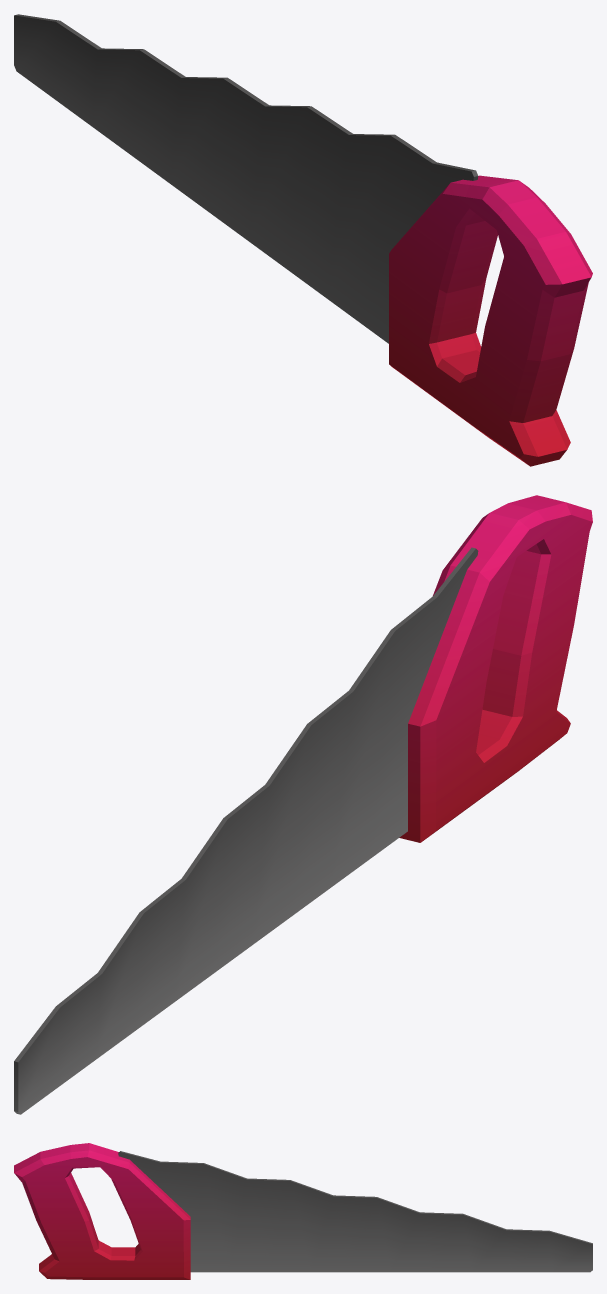
File: saw.fbx
3 views of the same model, one above another, from view 1: azimuth 30°, elevation 25°; view 2: azimuth 150°, elevation 25°; view 3: azimuth 270°, elevation 25° (orthographic). The views are drawn at different scales.
Parts seen in each view (by area): view 1: Blade_Tools_Mat_0; view 2: Blade_Tools_Mat_0; view 3: Blade_Tools_Mat_0.
Boxes of the visible parts, x1=… form: Blade_Tools_Mat_0: x1=14, y1=14, x2=592, y2=466; Blade_Tools_Mat_0: x1=14, y1=495, x2=592, y2=1114; Blade_Tools_Mat_0: x1=14, y1=1143, x2=592, y2=1279.
Size of the model in its own units: 180 by 912 by 3694.
Materials: 1 (1 with a texture image).
